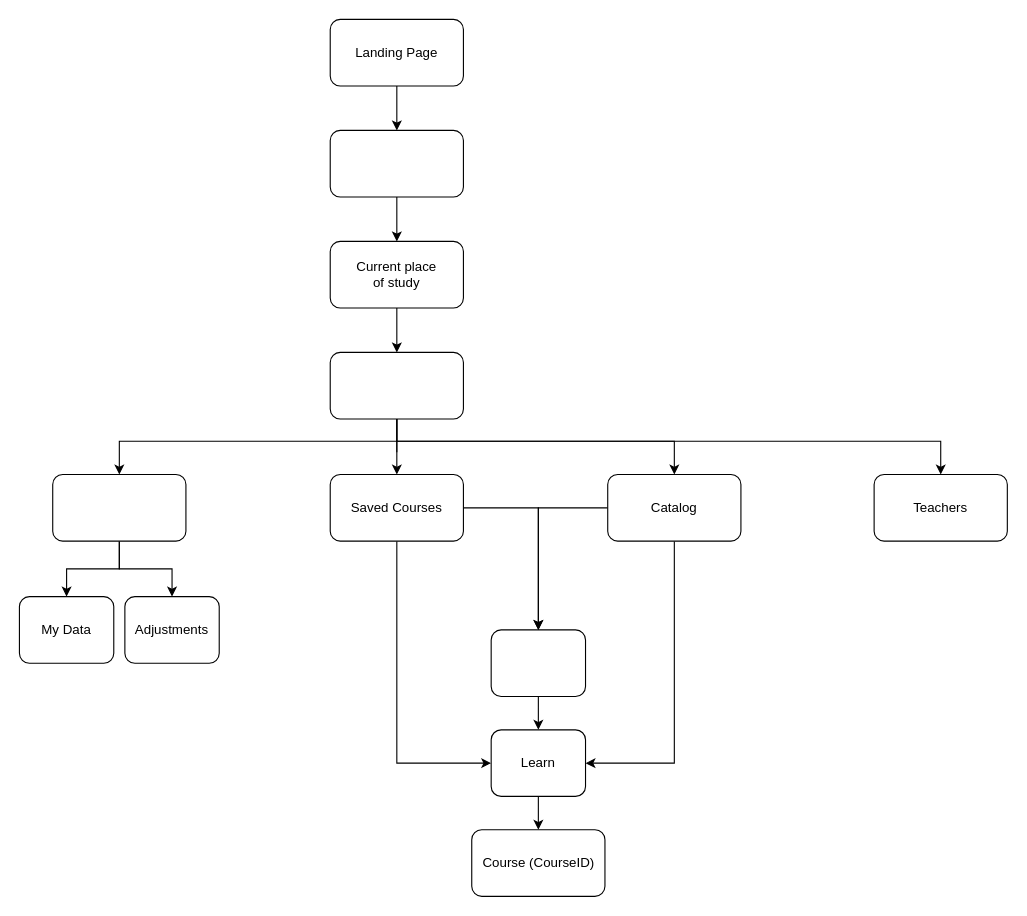
Image size: 1027x916. Some labels were removed from this diagram. The centre of each missing label's shape, as x and y in pixels:
Home: the point at 396,385
Login: the point at 396,163
My Profile: the point at 119,507
Title Page: the point at 538,663
